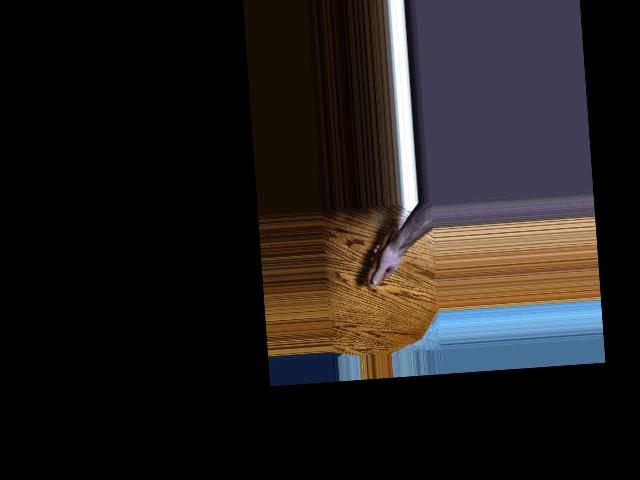sweet_potato: (359, 212, 405, 290)
